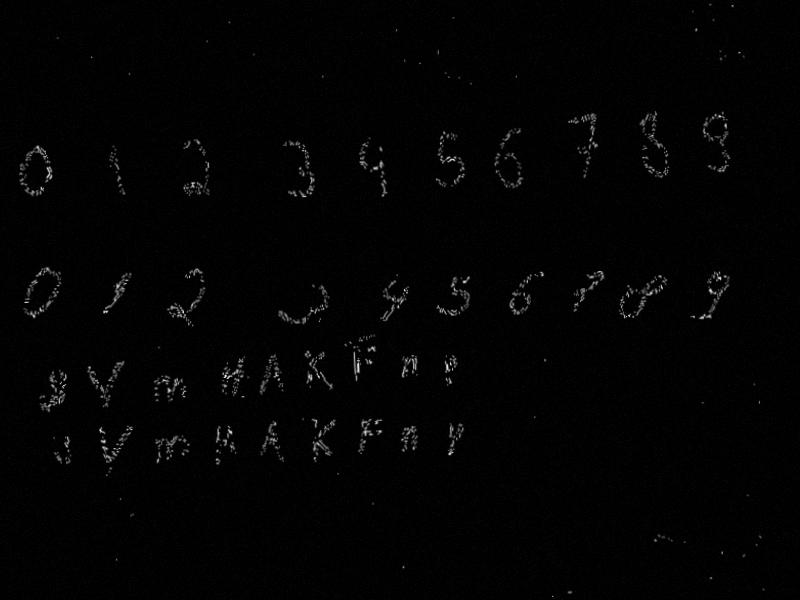0: (19, 261, 67, 321), (15, 143, 55, 199)
1: (93, 266, 137, 317), (102, 141, 127, 198)
2: (163, 268, 210, 331), (177, 134, 216, 201)
3: (274, 279, 333, 328), (278, 136, 318, 200)
4: (354, 135, 391, 202), (372, 273, 414, 322)
5: (429, 129, 468, 191), (432, 274, 475, 317)
6: (489, 125, 529, 193), (505, 269, 548, 319)
7: (562, 111, 604, 181), (567, 267, 607, 315)
8: (613, 263, 671, 324), (634, 108, 674, 183)
9: (684, 268, 735, 328), (698, 108, 734, 178)
A: (259, 418, 285, 466), (258, 351, 285, 397)
F: (355, 416, 385, 459), (350, 342, 379, 386)
H: (219, 354, 249, 400), (213, 421, 237, 466)
V: (94, 422, 138, 480), (83, 359, 129, 411)
k: (308, 413, 340, 464), (301, 347, 335, 394)
m: (149, 373, 190, 409), (153, 433, 193, 467)
n: (397, 424, 419, 455), (399, 351, 420, 383)
p: (444, 420, 466, 460), (442, 352, 461, 389)
u: (31, 366, 73, 420), (48, 431, 76, 469)
